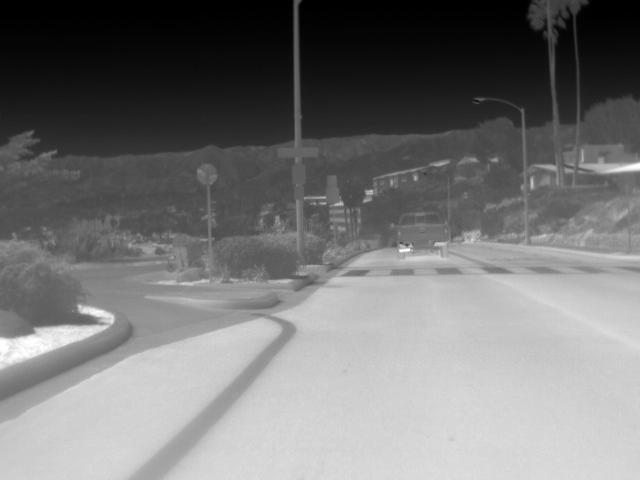car: (394, 210, 451, 261)
person: (172, 232, 192, 272)
